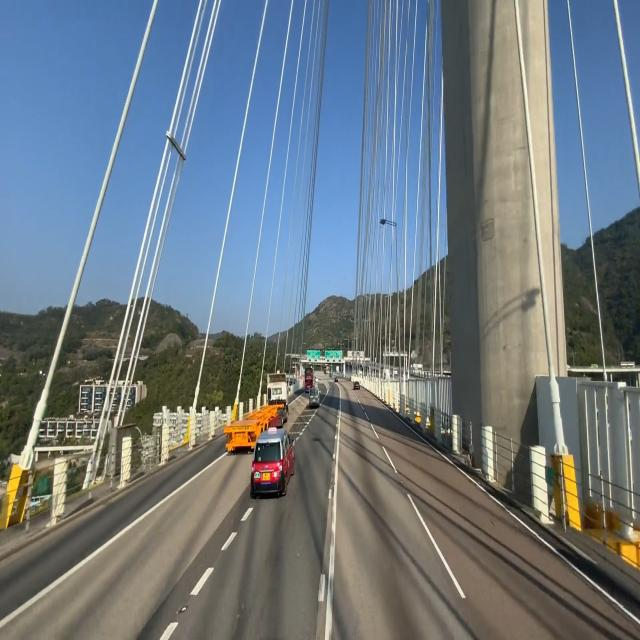Car: (221, 378, 296, 452), (250, 422, 296, 504), (306, 384, 325, 412)
